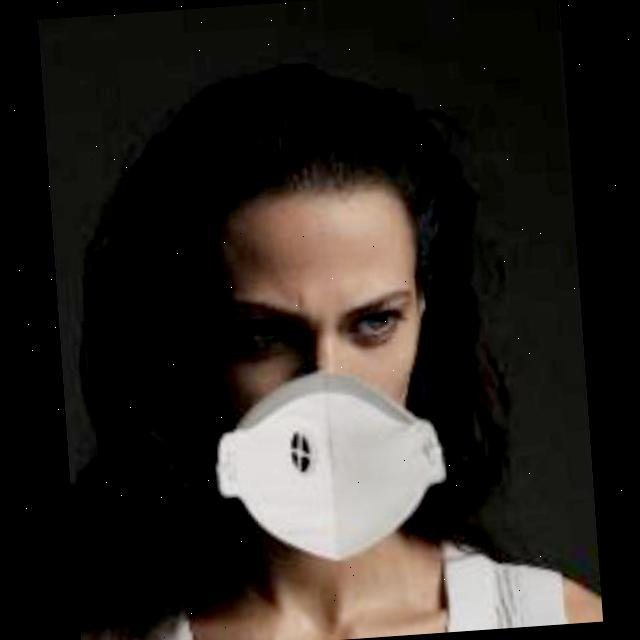suspicion: (169, 87, 529, 581)
